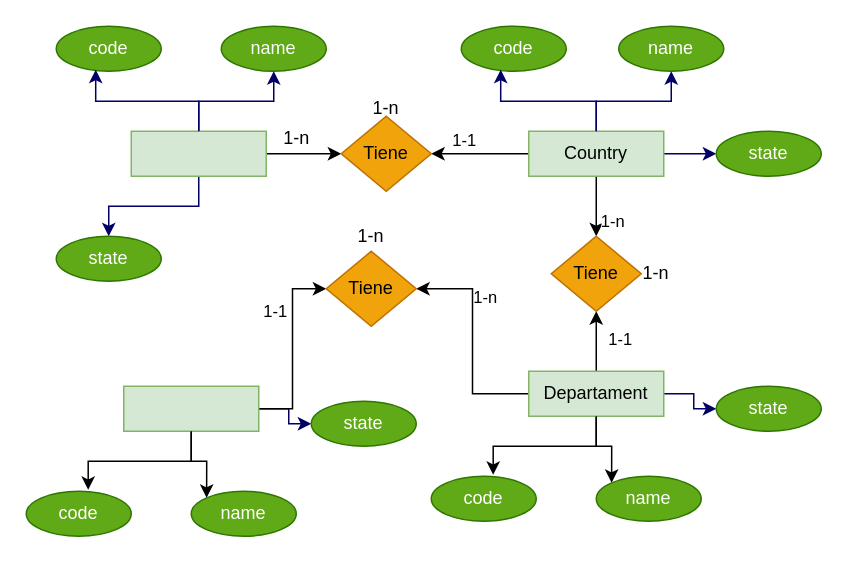
This 848x563 diagram has some shape labels left out. Each missing label, with the centre of its shape:
"Continent" goes at [198,153].
"Estate" goes at [190,408].
